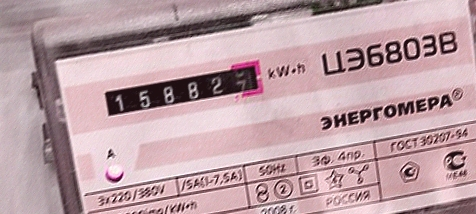1: (112, 90, 127, 111)
2: (210, 73, 224, 93)
5: (137, 86, 152, 108)
7: (235, 76, 248, 92)
8: (161, 81, 177, 104), (186, 78, 201, 100)
screen: (95, 52, 275, 124)
